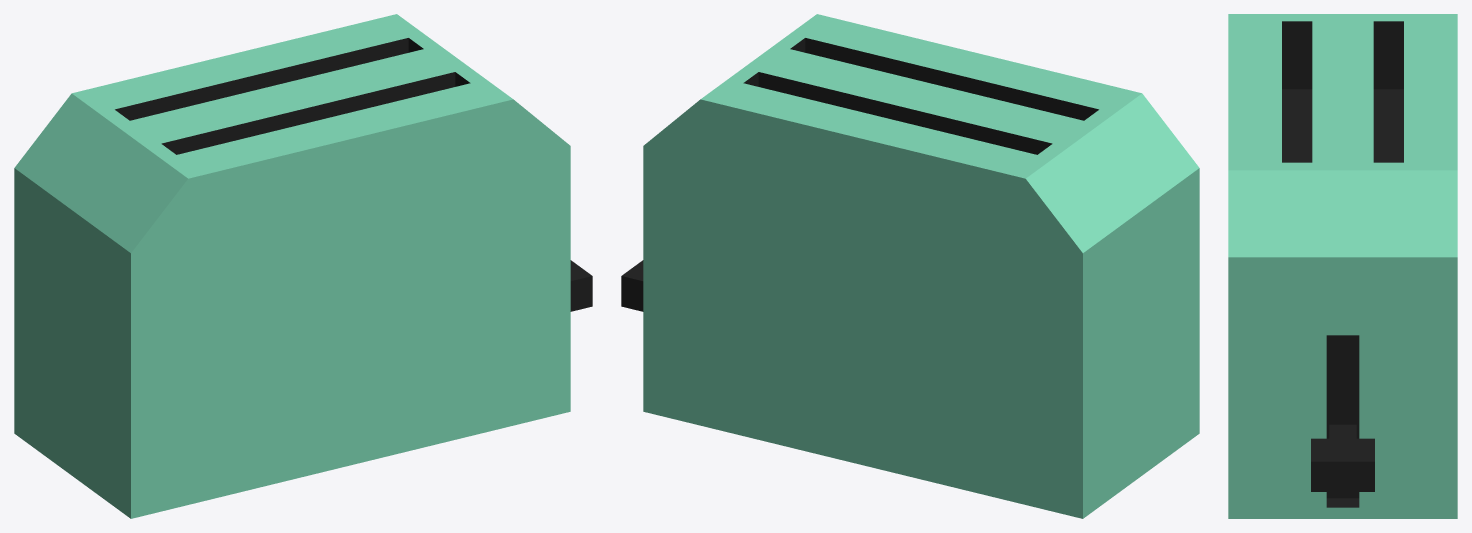
Rendered from toaster3_PLY.fbx.
The picture shows the model from 3 angles, left to right: view 1: azimuth 30°, elevation 25°; view 2: azimuth 150°, elevation 25°; view 3: azimuth 270°, elevation 25°; orthographic projection.
Parts seen in each view (by area): view 1: toaster3_PLY; view 2: toaster3_PLY; view 3: toaster3_PLY.
Part boxes in pixels (box(x1,y1,x2,y2)): toaster3_PLY: box(14, 14, 592, 518); toaster3_PLY: box(621, 14, 1199, 518); toaster3_PLY: box(1228, 14, 1457, 518).
Bounding box in the file's own units: 1.51 × 0.9352 × 0.6059.
